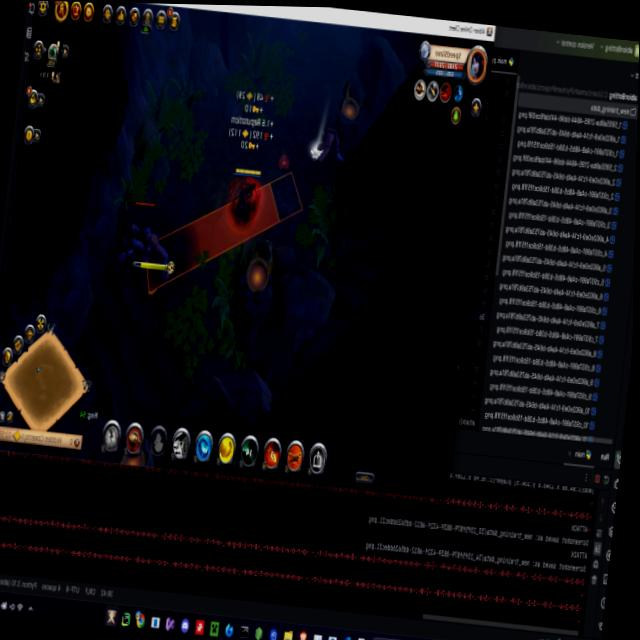ore: (109, 188, 183, 288), (274, 148, 294, 175)
red: (221, 158, 267, 234)
silver: (139, 167, 303, 302)
stone: (306, 139, 325, 163)
